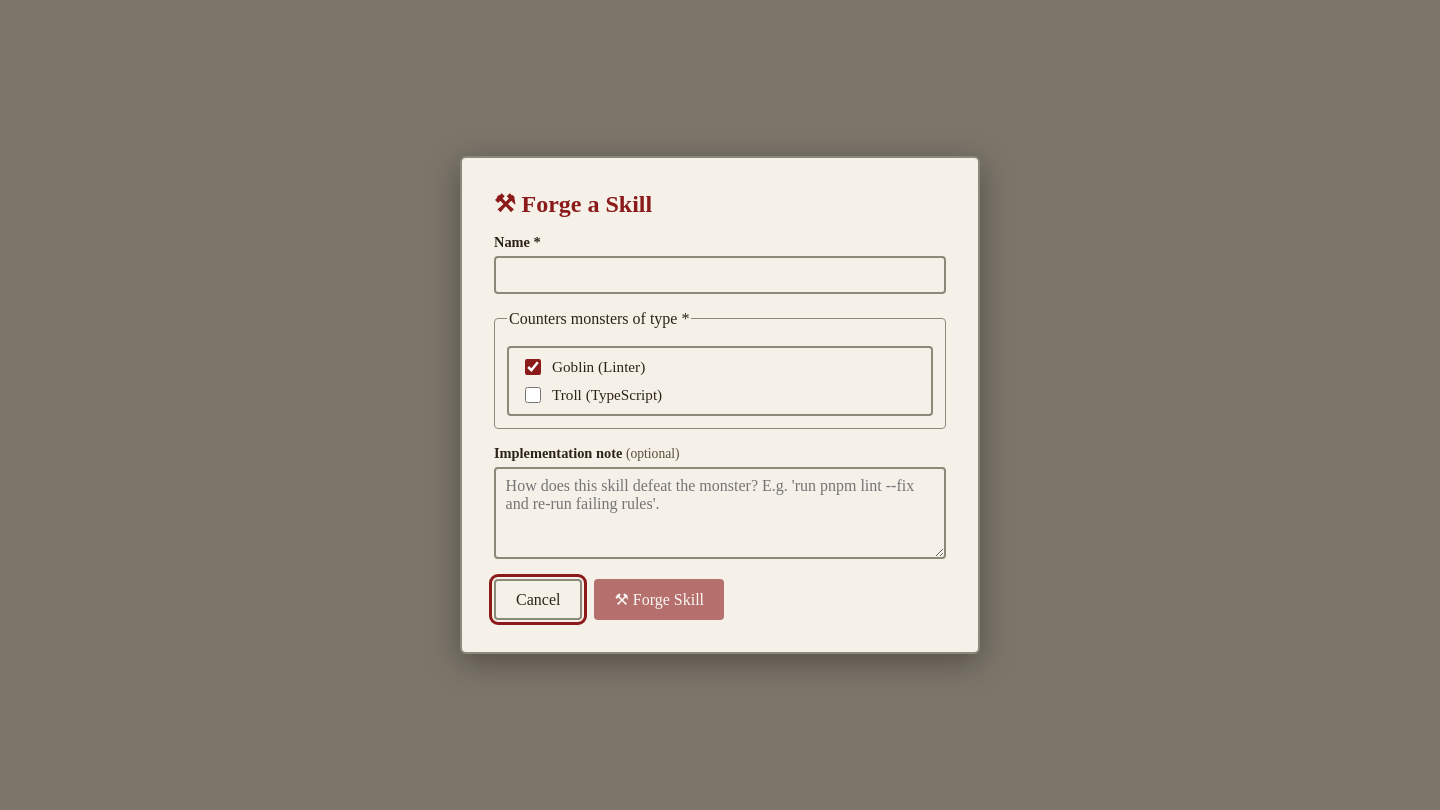
ForgeSkillModal — validation › enables submit when name is non-empty and at least one type is selected
Expected: the text "Goblin (Linter)" is shown, [552,358,645,376]
Type "My Skill" into the field labelled "Name *" at (720, 274), box [494,256,946,294]
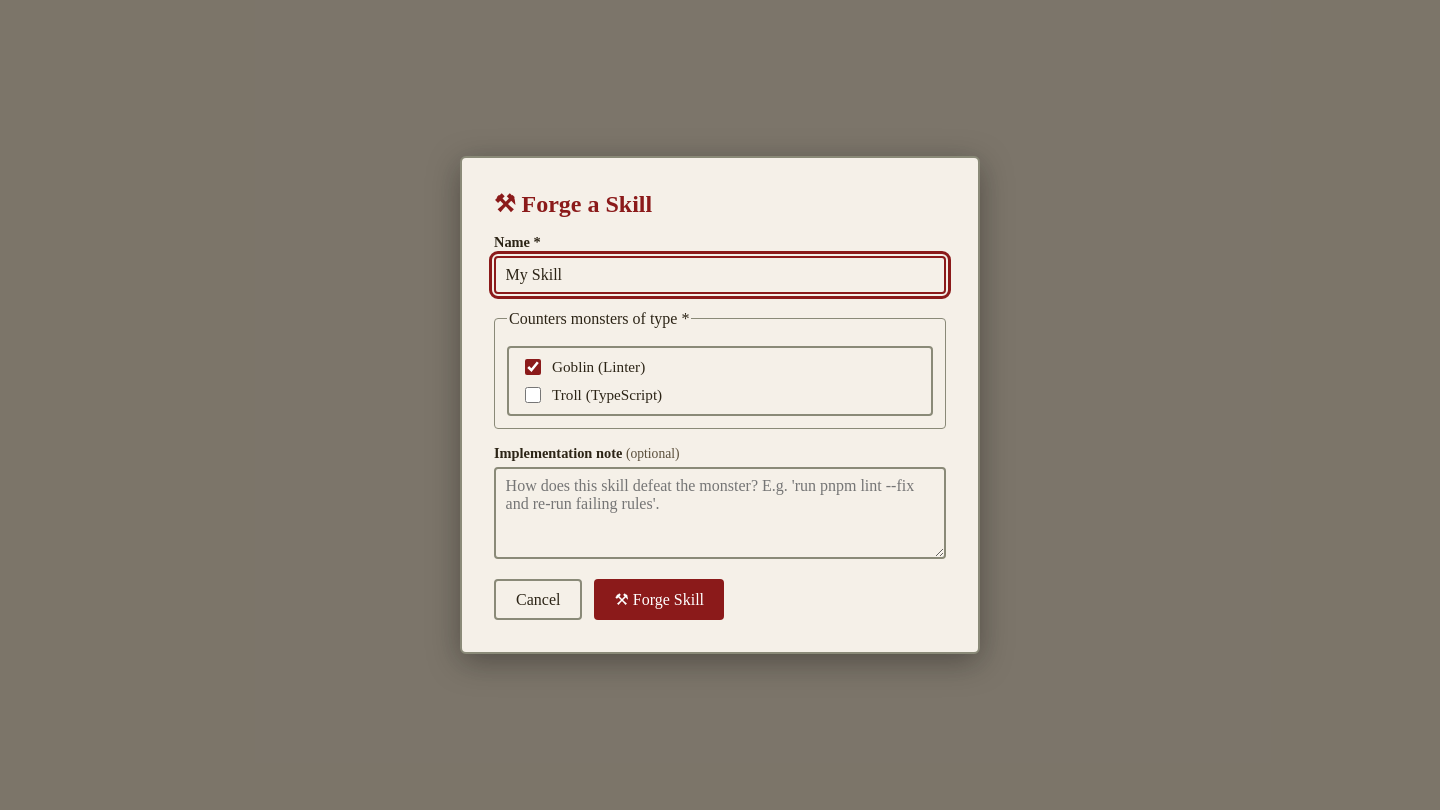
Result: the button "⚒ Forge Skill" is enabled at [594,579,724,620]
